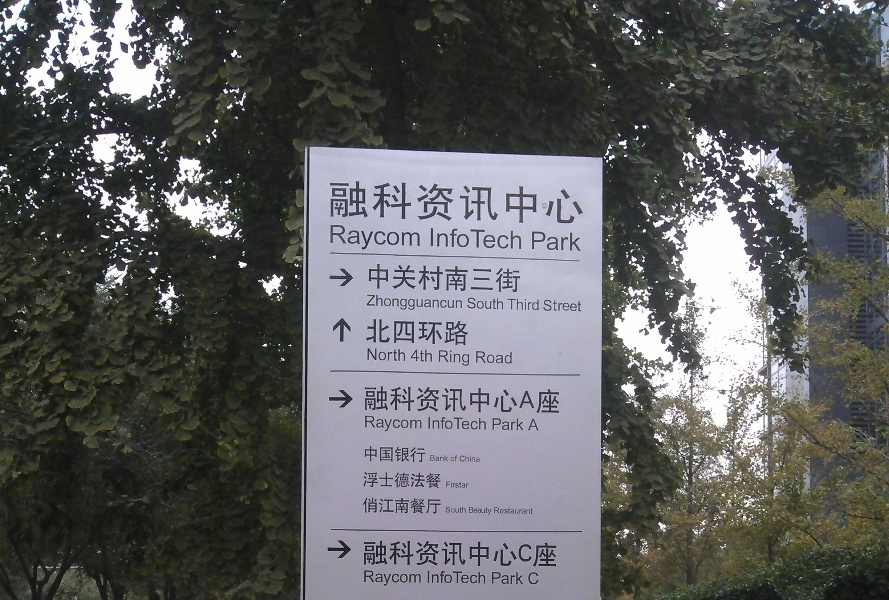text: (337, 176, 352, 227), (353, 176, 368, 227), (369, 176, 384, 227), (385, 176, 400, 227), (401, 176, 416, 227), (417, 176, 432, 227), (433, 176, 448, 227), (449, 176, 464, 227), (465, 176, 480, 227), (481, 176, 496, 227), (497, 176, 512, 227), (513, 176, 528, 227), (529, 176, 544, 227), (545, 176, 560, 227), (561, 176, 576, 227), (369, 262, 384, 294), (385, 262, 400, 294), (401, 262, 416, 294), (417, 262, 432, 294), (433, 262, 448, 294), (449, 262, 464, 294), (465, 262, 480, 294), (481, 262, 496, 294), (497, 262, 512, 294), (545, 385, 561, 415), (327, 176, 336, 227), (369, 385, 384, 415), (385, 385, 400, 415), (401, 385, 416, 415), (417, 385, 432, 415), (433, 385, 448, 415), (449, 385, 464, 415), (465, 385, 480, 415), (481, 385, 496, 415), (497, 385, 512, 415), (513, 385, 528, 415), (529, 385, 544, 415), (369, 318, 384, 347), (385, 318, 400, 347), (401, 318, 416, 347), (417, 318, 432, 347), (433, 318, 448, 347), (449, 318, 464, 347), (369, 540, 384, 569), (385, 540, 400, 569), (401, 540, 416, 569), (417, 540, 432, 569), (433, 540, 448, 569), (449, 540, 464, 569), (465, 540, 480, 569), (481, 540, 496, 569), (497, 540, 512, 569), (513, 540, 528, 569), (529, 540, 544, 569), (337, 225, 352, 254), (353, 225, 368, 254), (369, 225, 384, 254), (385, 225, 400, 254), (401, 225, 416, 254), (433, 225, 448, 252), (449, 225, 464, 252), (465, 225, 480, 252), (481, 225, 496, 252), (497, 225, 512, 252), (545, 230, 560, 254), (561, 230, 576, 254), (577, 176, 584, 227), (545, 540, 557, 569), (513, 262, 523, 294), (369, 470, 384, 490), (385, 470, 400, 490), (401, 470, 416, 490), (417, 470, 432, 490), (369, 496, 384, 516), (385, 496, 400, 516), (401, 496, 416, 516), (417, 496, 432, 516), (513, 225, 524, 252), (532, 230, 544, 254), (369, 294, 384, 313), (385, 294, 400, 313), (401, 294, 416, 313), (417, 294, 432, 313), (433, 294, 448, 313), (369, 415, 384, 433), (385, 415, 400, 433), (401, 415, 416, 433), (449, 294, 463, 313), (369, 570, 384, 587), (385, 570, 400, 587), (401, 570, 416, 587), (369, 447, 384, 463), (385, 447, 400, 463), (401, 447, 416, 463), (369, 347, 384, 363), (385, 347, 400, 363), (449, 350, 464, 366), (417, 348, 432, 363), (433, 417, 448, 432), (449, 417, 464, 432), (465, 417, 480, 432), (433, 570, 448, 585), (449, 570, 464, 585), (465, 570, 480, 585), (497, 351, 513, 365), (481, 297, 496, 311), (545, 299, 560, 313), (561, 299, 576, 313), (481, 351, 496, 365), (497, 418, 512, 432), (497, 571, 512, 585), (513, 298, 528, 311), (362, 385, 368, 415), (330, 225, 336, 254), (468, 297, 480, 311), (513, 418, 525, 432), (417, 447, 427, 463), (433, 470, 441, 490), (433, 496, 441, 516), (438, 350, 448, 366), (465, 318, 470, 347), (363, 540, 368, 569), (417, 225, 422, 254), (577, 230, 583, 254), (529, 298, 540, 311), (529, 418, 539, 432), (513, 571, 523, 585), (529, 572, 539, 585), (362, 470, 368, 490), (362, 496, 368, 516), (449, 481, 464, 489), (497, 507, 512, 515), (513, 507, 528, 515), (433, 455, 449, 462), (497, 297, 505, 311), (417, 415, 423, 433), (449, 507, 464, 514), (469, 507, 480, 516), (481, 507, 492, 516), (577, 299, 584, 313), (401, 347, 407, 363), (465, 350, 471, 366), (451, 455, 464, 462), (410, 348, 416, 363), (481, 417, 487, 432), (465, 456, 480, 462), (417, 570, 422, 587), (429, 225, 432, 252), (427, 417, 432, 432), (427, 570, 432, 585), (481, 570, 486, 585), (491, 418, 496, 432), (491, 571, 496, 585), (364, 570, 368, 587), (507, 298, 512, 311), (364, 447, 368, 463), (366, 318, 368, 347), (476, 351, 480, 365), (365, 415, 368, 433), (465, 481, 469, 489), (529, 507, 533, 515), (460, 456, 464, 462), (445, 507, 448, 514), (367, 294, 368, 313), (367, 347, 368, 363), (446, 481, 448, 489), (494, 507, 496, 515), (433, 348, 434, 363), (430, 455, 432, 462), (465, 507, 467, 514)
